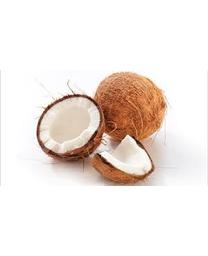coconut: (94, 71, 168, 141), (35, 93, 106, 161), (92, 134, 155, 185)
